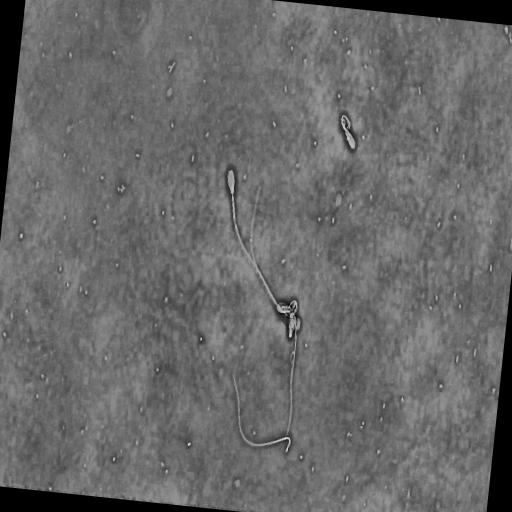coiled-tail: (341, 114, 351, 129)
loose-tail: (232, 372, 292, 455)
normal: (222, 163, 276, 307), (274, 313, 297, 445), (339, 107, 359, 156)
